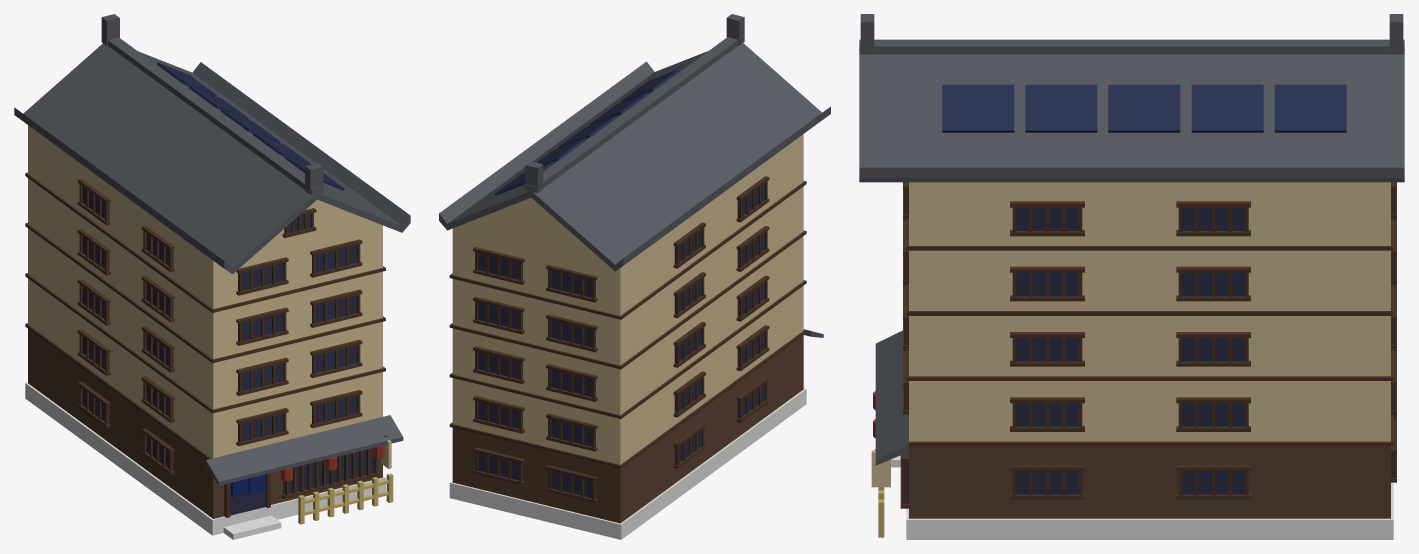
File: house-1x2-5f-machiya-a-solar.glb
3 views of the same model, side by side, from view 1: azimuth 30°, elevation 25°; view 2: azimuth 150°, elevation 25°; view 3: azimuth 270°, elevation 25° (orthographic). The views are drawn at different scales.
Parts seen in each view (by area): view 1: house-1x2-5f-machiya-a-solar; view 2: house-1x2-5f-machiya-a-solar; view 3: house-1x2-5f-machiya-a-solar.
Part boxes in pixels (bbox=[...]): house-1x2-5f-machiya-a-solar: bbox=[14, 14, 410, 539]; house-1x2-5f-machiya-a-solar: bbox=[439, 14, 830, 539]; house-1x2-5f-machiya-a-solar: bbox=[859, 14, 1404, 539].
Size of the model in its own units: 1.01 by 1.86 by 1.97.
Materials: 1 (1 with a texture image).
